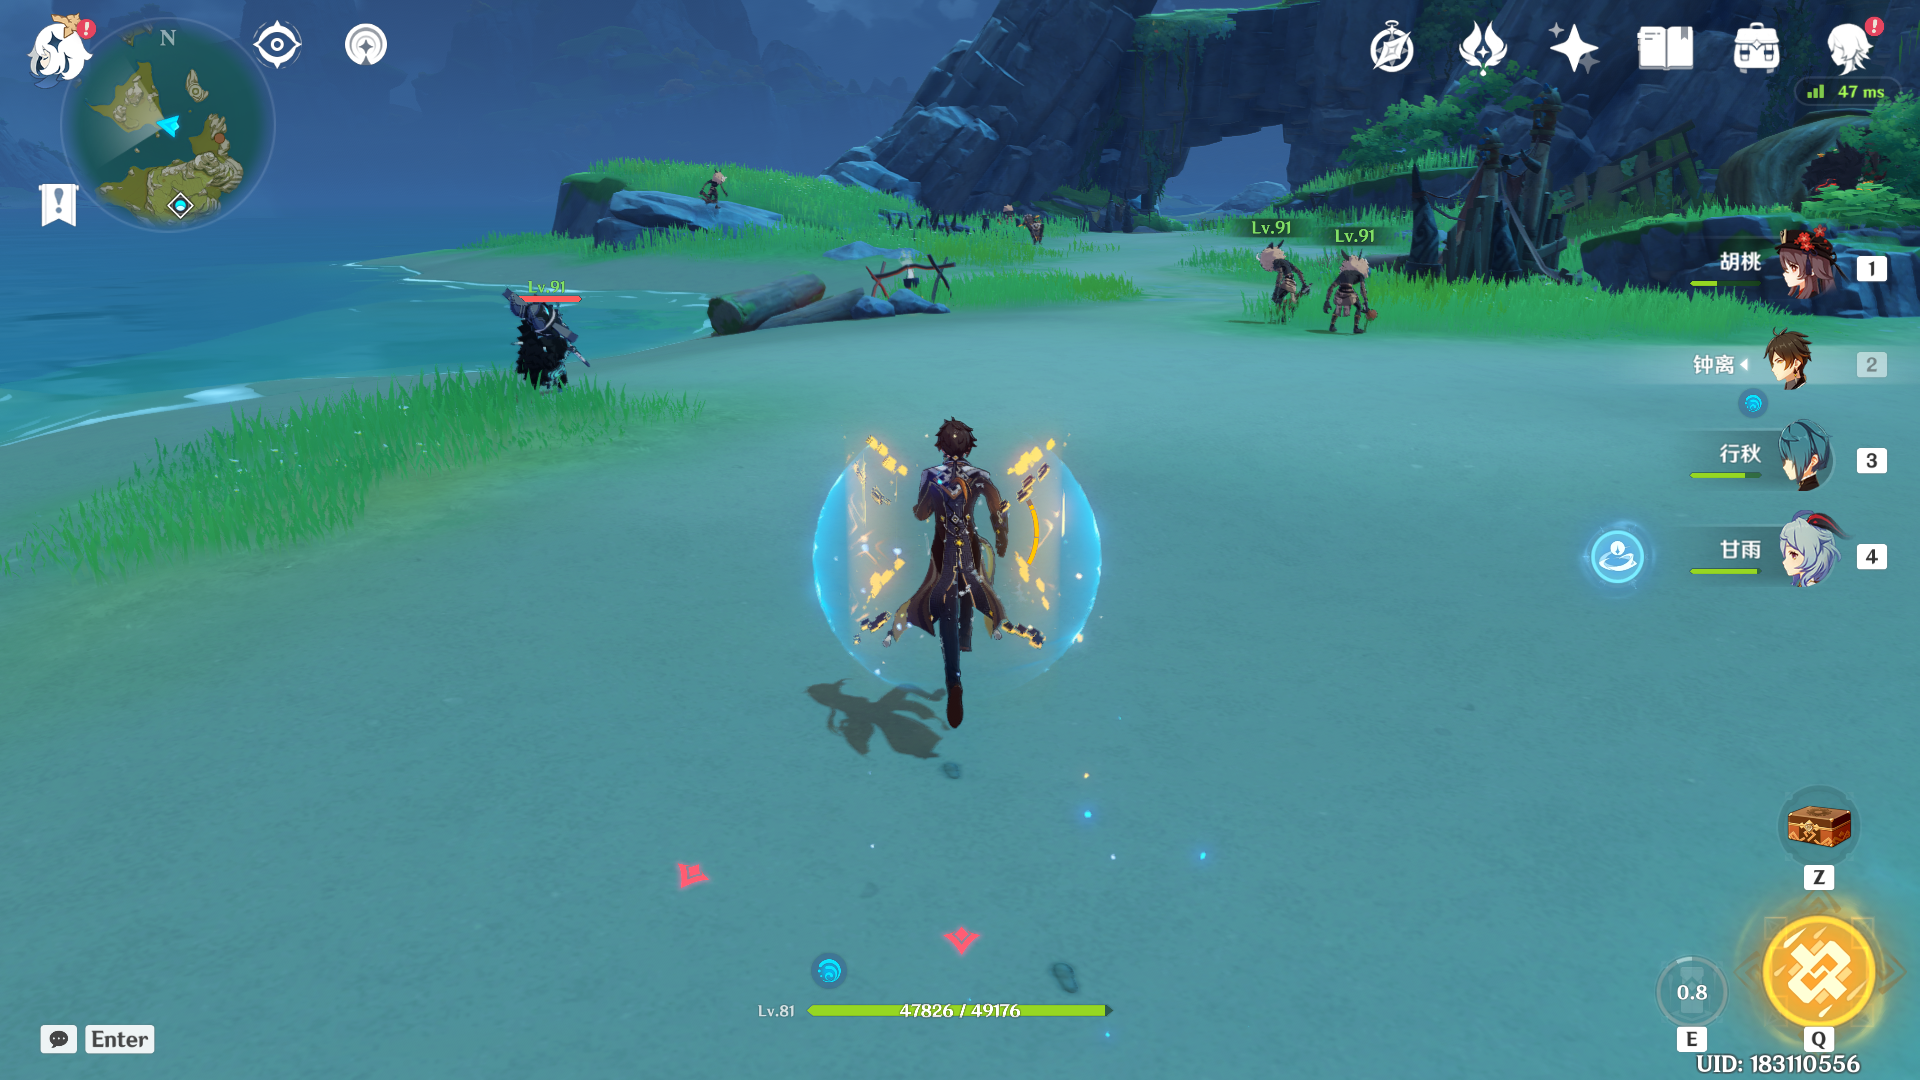character: (833, 392, 1091, 764)
hili: (483, 276, 618, 429), (1226, 228, 1331, 342), (1309, 239, 1398, 355), (686, 160, 752, 241)
